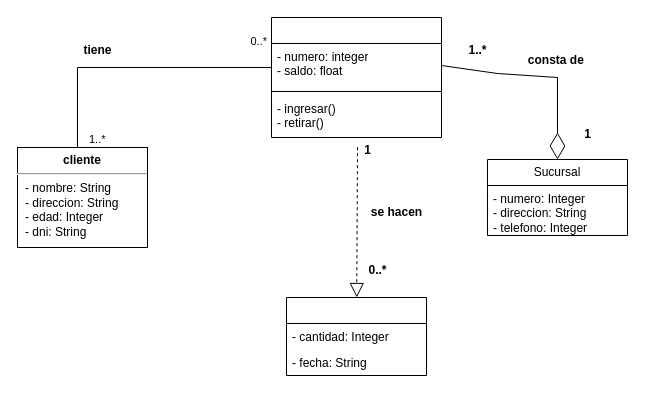
This 645x396 diagram has some shape labels left out. Each missing label, with the box of its shape:
Cuenta: (270, 16, 442, 138)
Movimiento: (286, 296, 426, 376)
